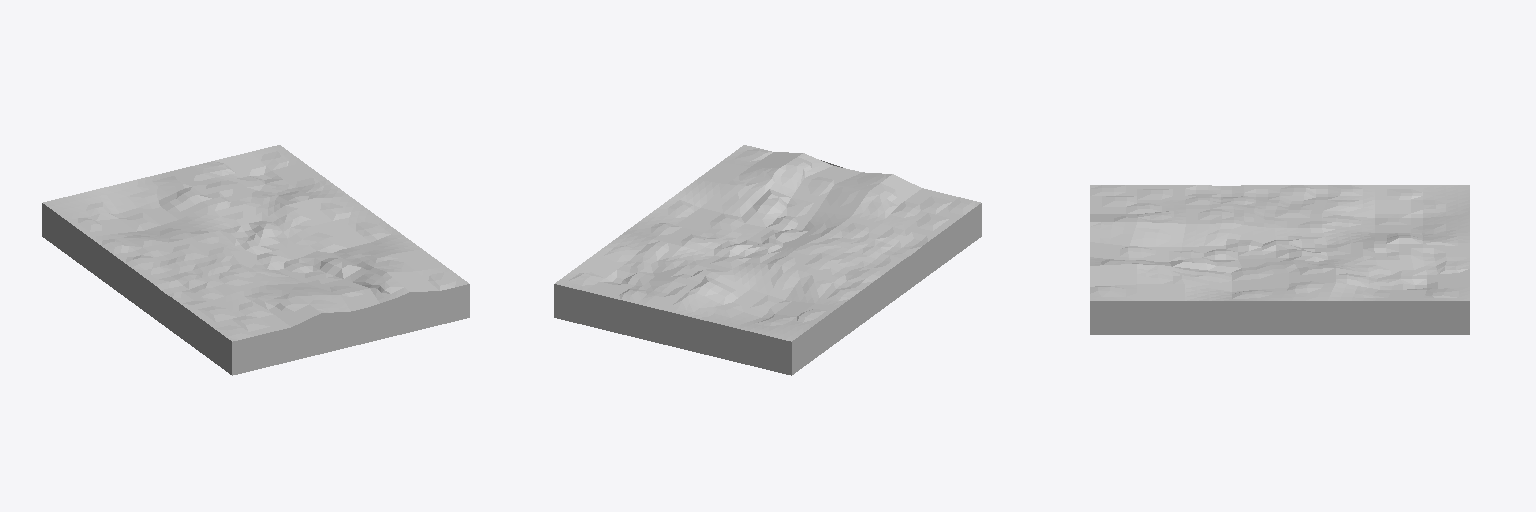
Rendered from Testing Environment Ground.obj.
3 renders of one model, left to right at view 1: azimuth 30°, elevation 25°; view 2: azimuth 150°, elevation 25°; view 3: azimuth 270°, elevation 25°, orthographic.
Visible parts, largest first — view 1: Exported; view 2: Exported; view 3: Exported.
Boxes of the visible parts, x1=… form: Exported: x1=42, y1=145, x2=469, y2=375; Exported: x1=554, y1=145, x2=981, y2=375; Exported: x1=1090, y1=185, x2=1469, y2=334.
Size of the model in its own units: 121 by 20.71 by 168.